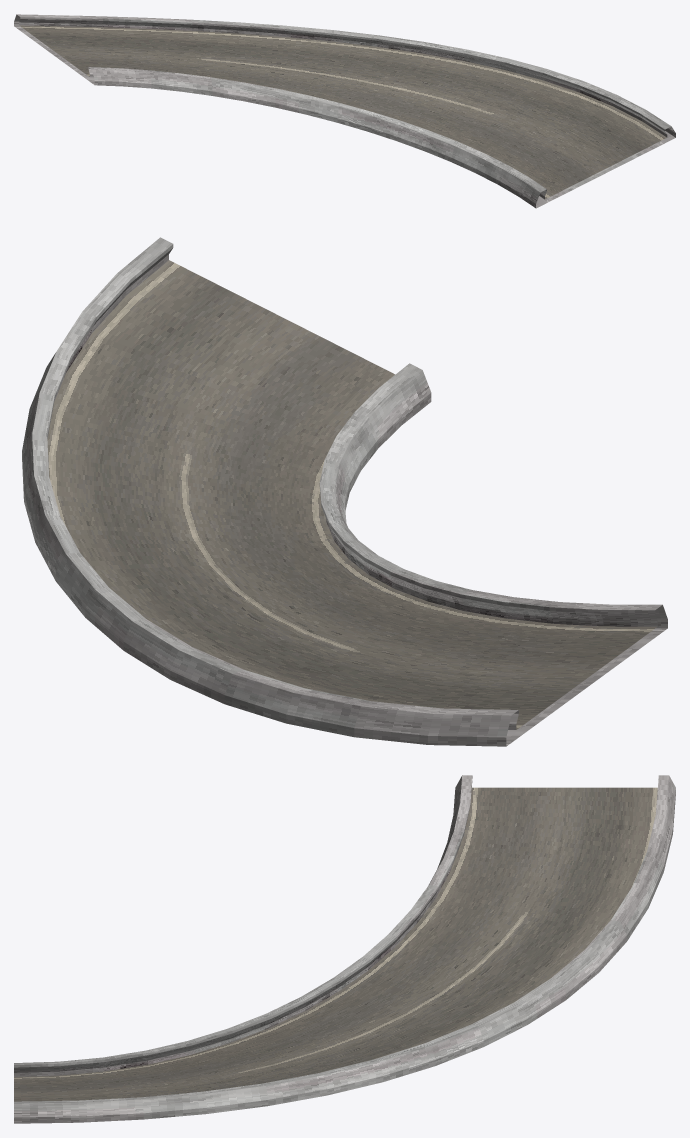
File: road-Turn-HalfBankedLeft-BiSlopeUp-Up2-Left-Size3.glb
3 renders of one model, top to bottom at view 1: azimuth 30°, elevation 25°; view 2: azimuth 150°, elevation 25°; view 3: azimuth 270°, elevation 25°, orthographic. The views are drawn at different scales.
Visible parts, largest first — view 1: road-Turn-HalfBankedLeft-BiSlopeUp-Up2-Left-Size3; view 2: road-Turn-HalfBankedLeft-BiSlopeUp-Up2-Left-Size3; view 3: road-Turn-HalfBankedLeft-BiSlopeUp-Up2-Left-Size3.
Boxes of the visible parts, x1=… form: road-Turn-HalfBankedLeft-BiSlopeUp-Up2-Left-Size3: x1=14, y1=14, x2=675, y2=208; road-Turn-HalfBankedLeft-BiSlopeUp-Up2-Left-Size3: x1=22, y1=237, x2=667, y2=746; road-Turn-HalfBankedLeft-BiSlopeUp-Up2-Left-Size3: x1=14, y1=775, x2=675, y2=1123.
Size of the model in its own units: 3 by 0.5937 by 3.
Materials: 2 (2 with a texture image).
